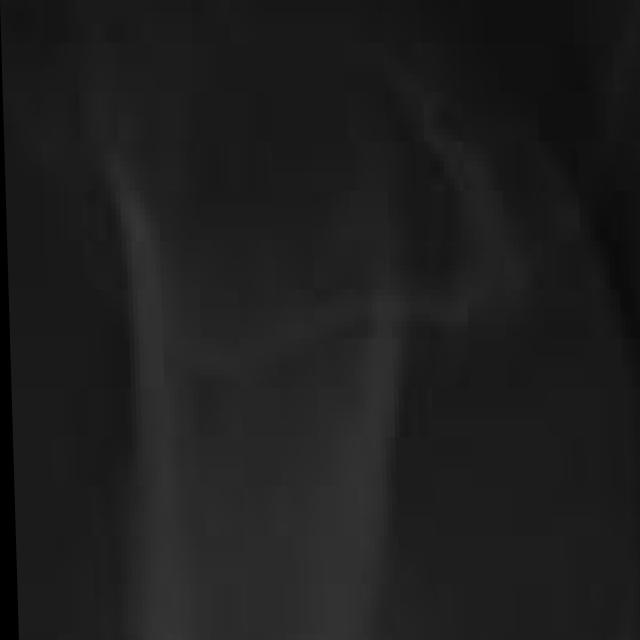fracture: (6, 0, 640, 640)
